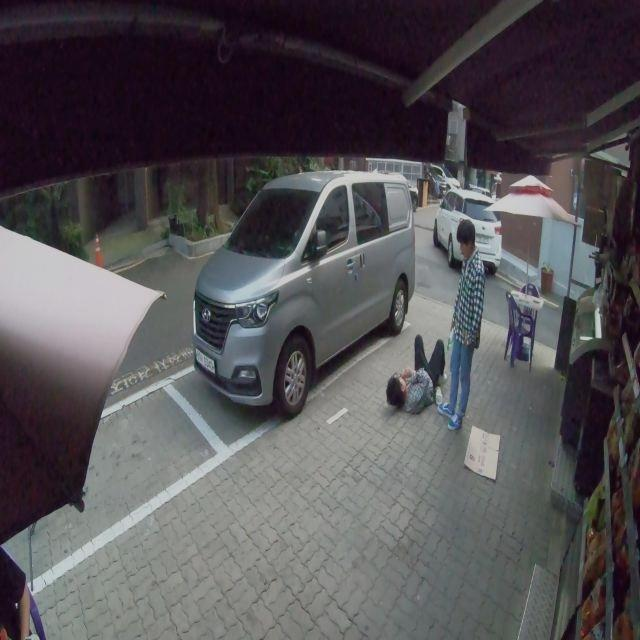non-fight: (386, 216, 486, 432)
